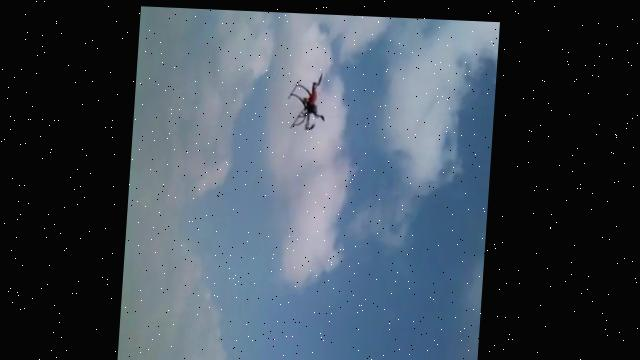drone: (285, 69, 329, 129)
